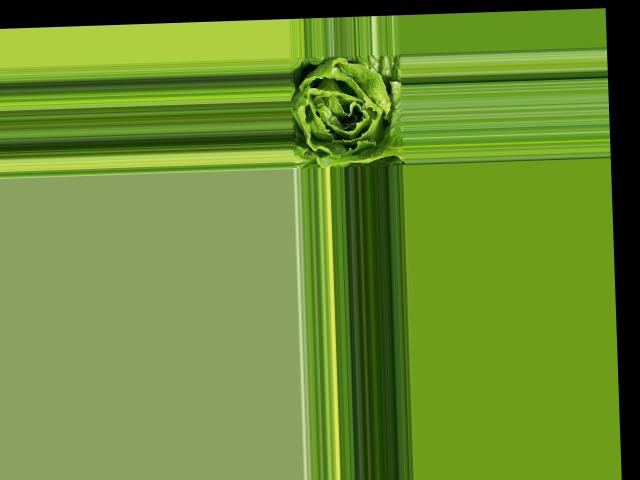lettuce: (290, 55, 405, 167)
